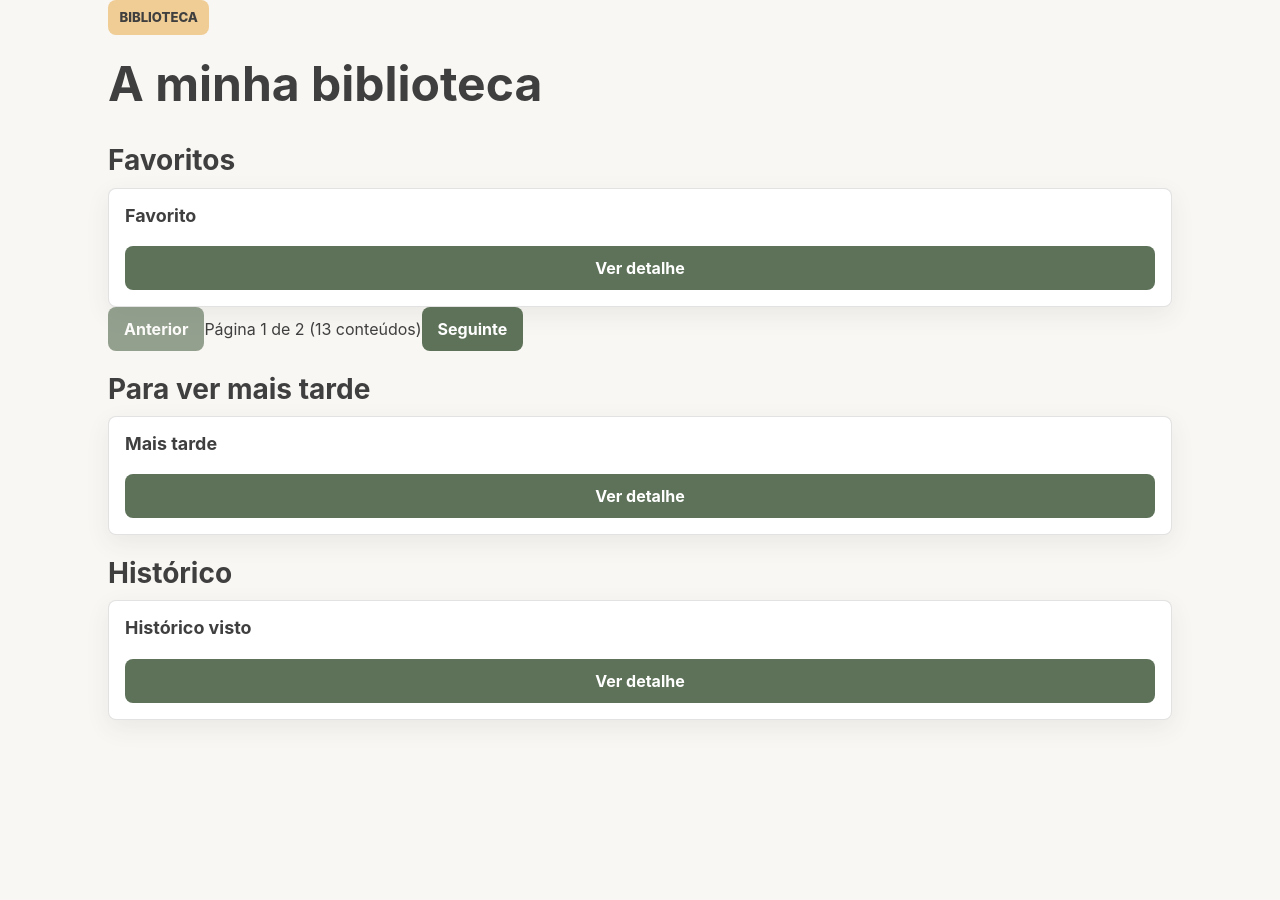
Test: MyLibraryPage › pagina apenas a secção escolhida
This screenshot has width=1280, height=900.
Click the button with aria-label "Página seguinte de Favoritos": (472, 329) [422, 307, 523, 351]
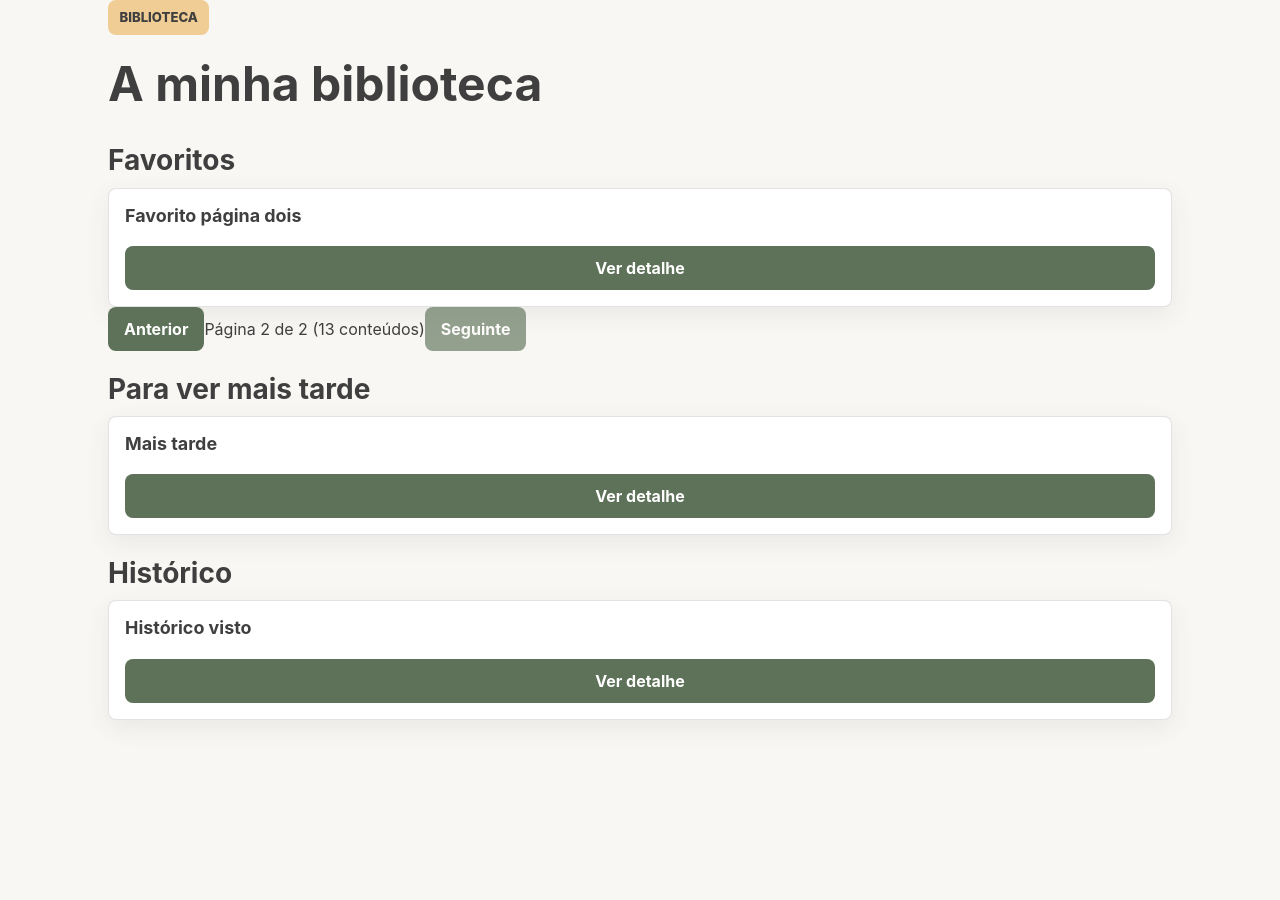
Expected: the heading "Favorito página dois" is shown, [125, 204, 302, 226]
